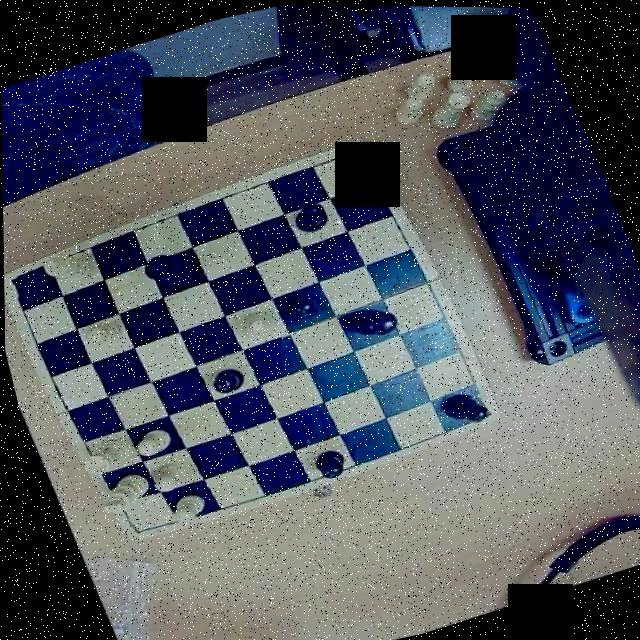chess-table-corners: (333, 140, 374, 180), (457, 388, 498, 428), (118, 511, 154, 543), (3, 265, 34, 300)
